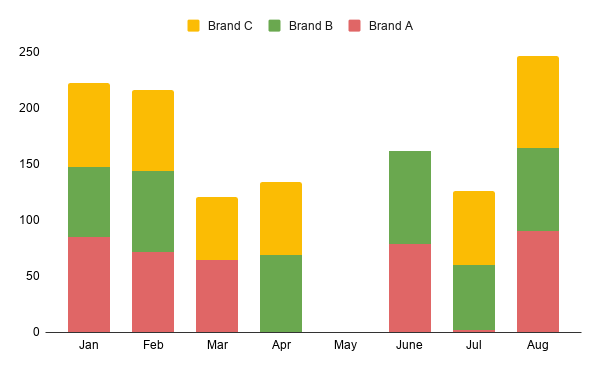canvas: (60, 48, 563, 334)
legend: (174, 12, 420, 38)
x-labels: (72, 336, 563, 361)
y-labels: (14, 37, 48, 340)
